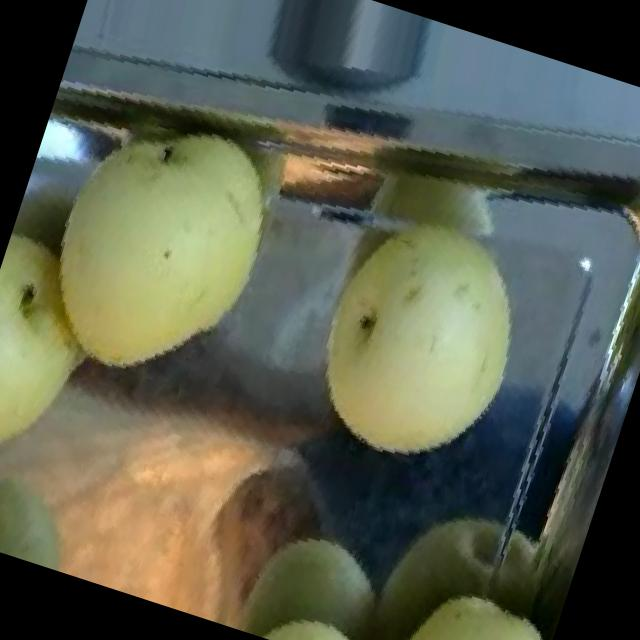Fruit: (0, 205, 304, 613), (0, 75, 326, 443), (258, 172, 562, 498), (354, 540, 567, 640), (217, 566, 430, 640)
